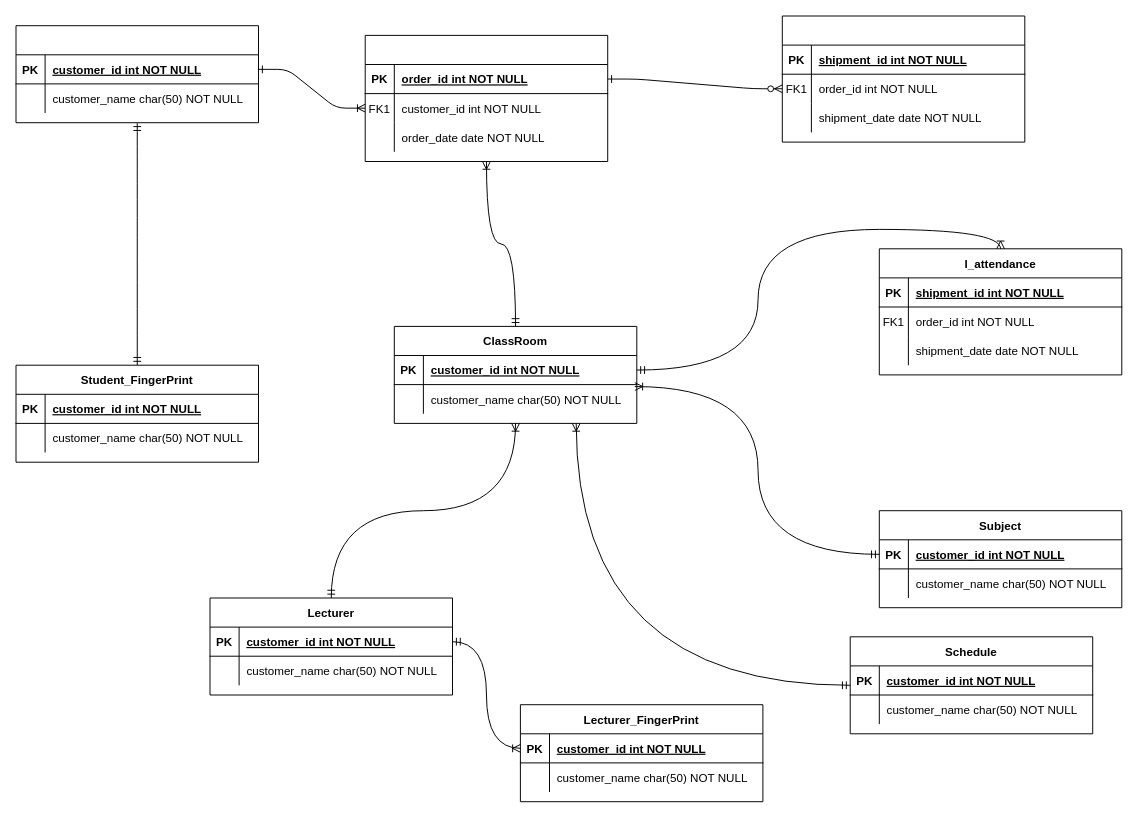
Image size: 1138x818. Some labels were removed from this diagram. Here are the shapes that lost their labels. From the top down, the box of each, then its label:
(15, 25, 259, 123): Student
(781, 15, 1025, 142): s_attendance
(364, 34, 608, 162): ClassRoomAttendance
